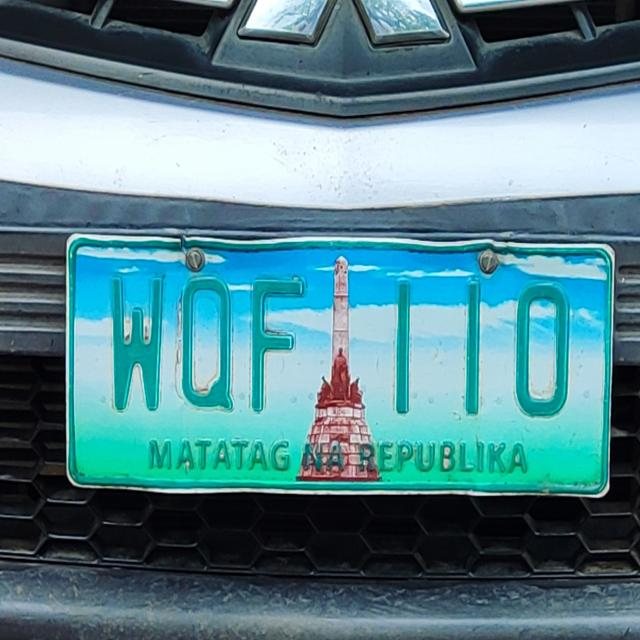plate: (59, 227, 621, 510)
